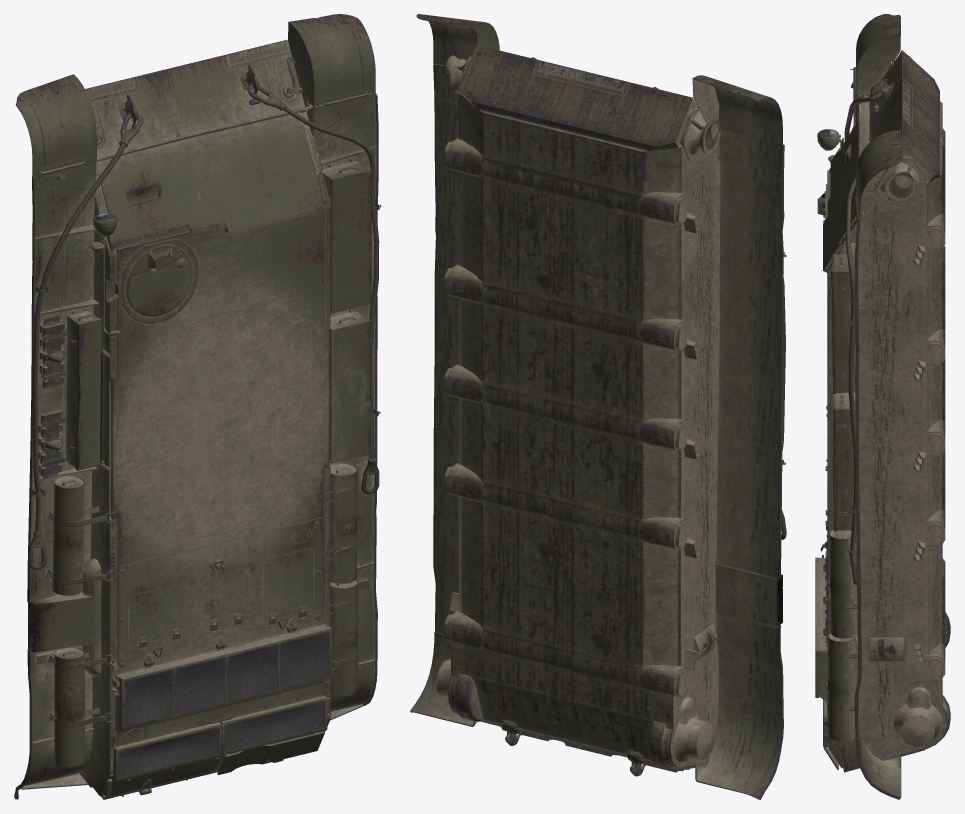
File: Hull.glb
3 views of the same model, side by side, from view 1: azimuth 30°, elevation 25°; view 2: azimuth 150°, elevation 25°; view 3: azimuth 270°, elevation 25° (orthographic). The views are drawn at different scales.
Visible parts, largest first — view 1: set_0_group_0; view 2: set_0_group_0; view 3: set_0_group_0.
Boxes of the visible parts, bbox=[...] form: set_0_group_0: bbox=[14, 14, 381, 799]; set_0_group_0: bbox=[410, 14, 786, 799]; set_0_group_0: bbox=[815, 14, 950, 799].
Bounding box in the file's own units: 3.16 × 6.11 × 1.16.
Materials: 1 (1 with a texture image).
